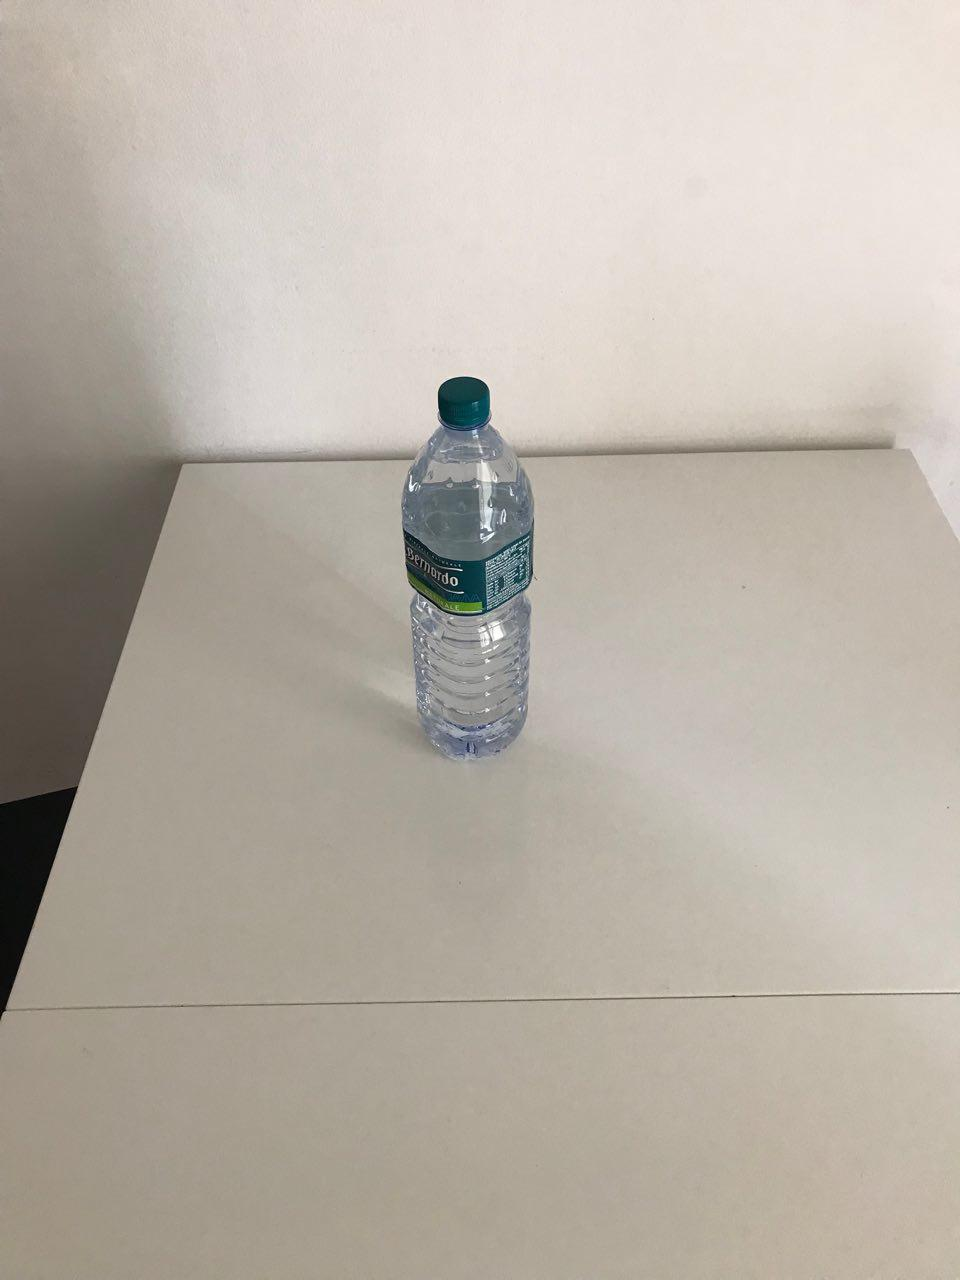san_bernardo: (400, 374, 537, 765)
